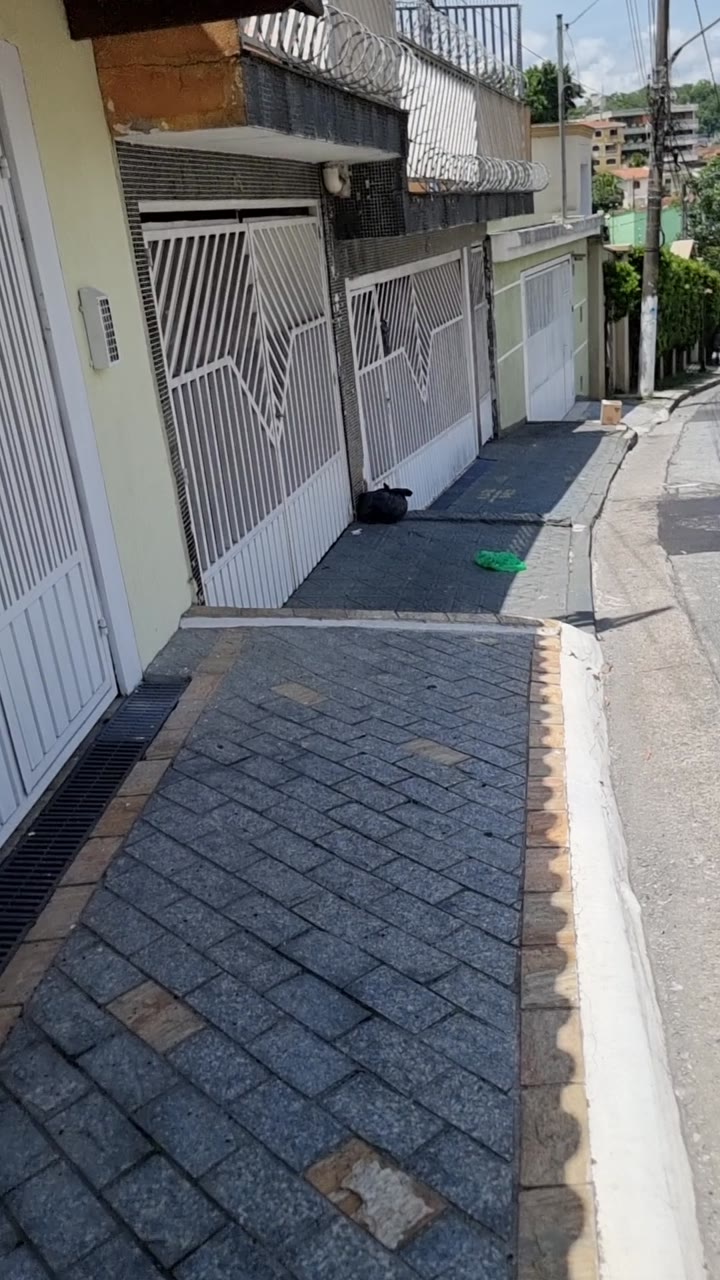desnivel: (518, 614, 684, 1280)
